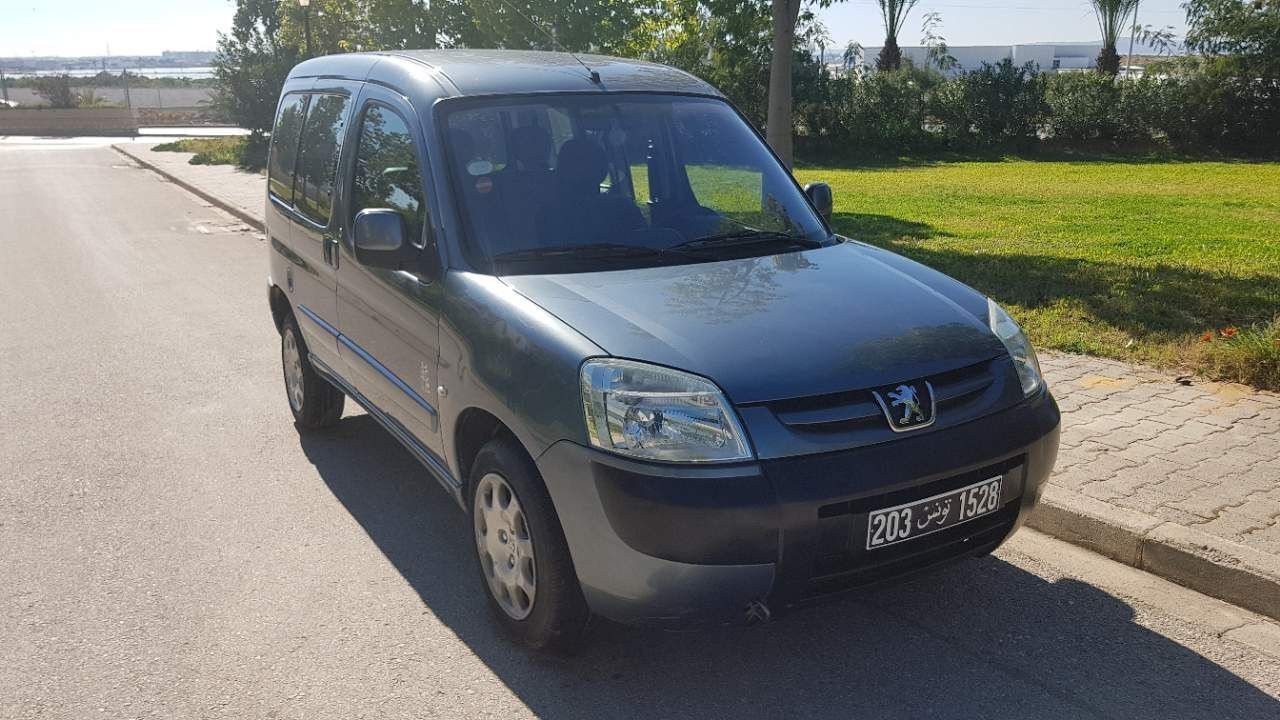LP: (862, 474, 1006, 553)
